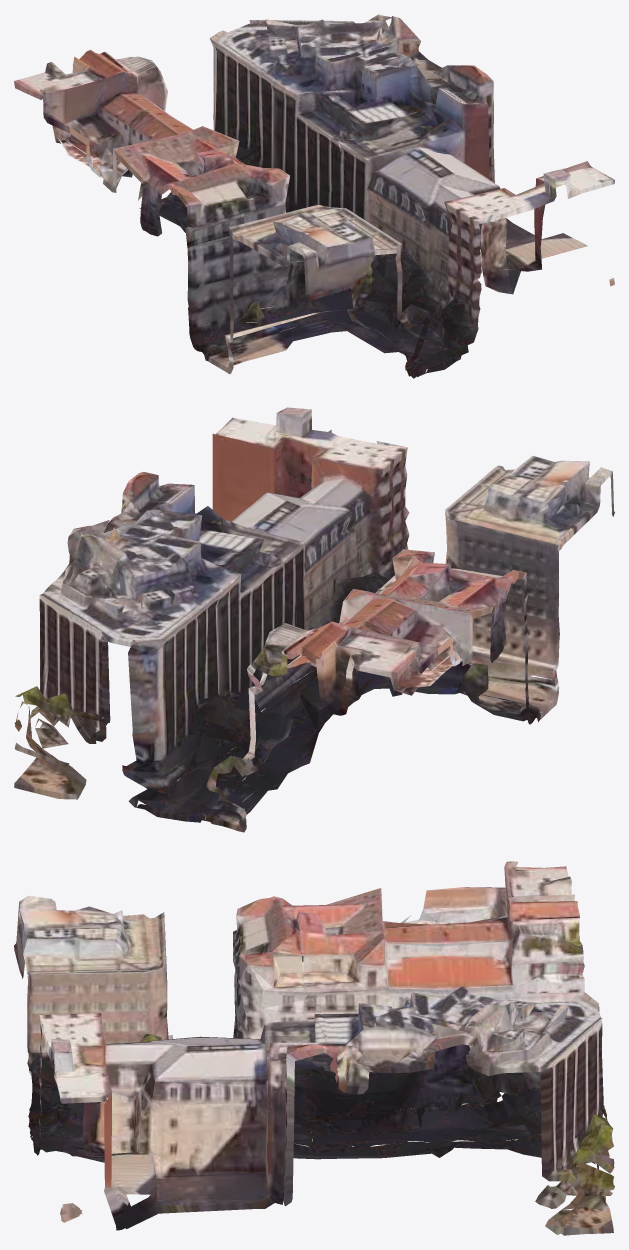
3 views of the same model, one above another, from view 1: azimuth 30°, elevation 25°; view 2: azimuth 150°, elevation 25°; view 3: azimuth 270°, elevation 25° (orthographic). The views are drawn at different scales.
Visible parts, largest first — view 1: Mesh_0; view 2: Mesh_0; view 3: Mesh_0.
Part boxes in pixels (<box>): Mesh_0: <box>14,14,614,378</box>; Mesh_0: <box>14,407,614,832</box>; Mesh_0: <box>14,861,614,1235</box>.
Size of the model in its own units: 66.56 by 31.97 by 82.58.
Materials: 1 (1 with a texture image).
